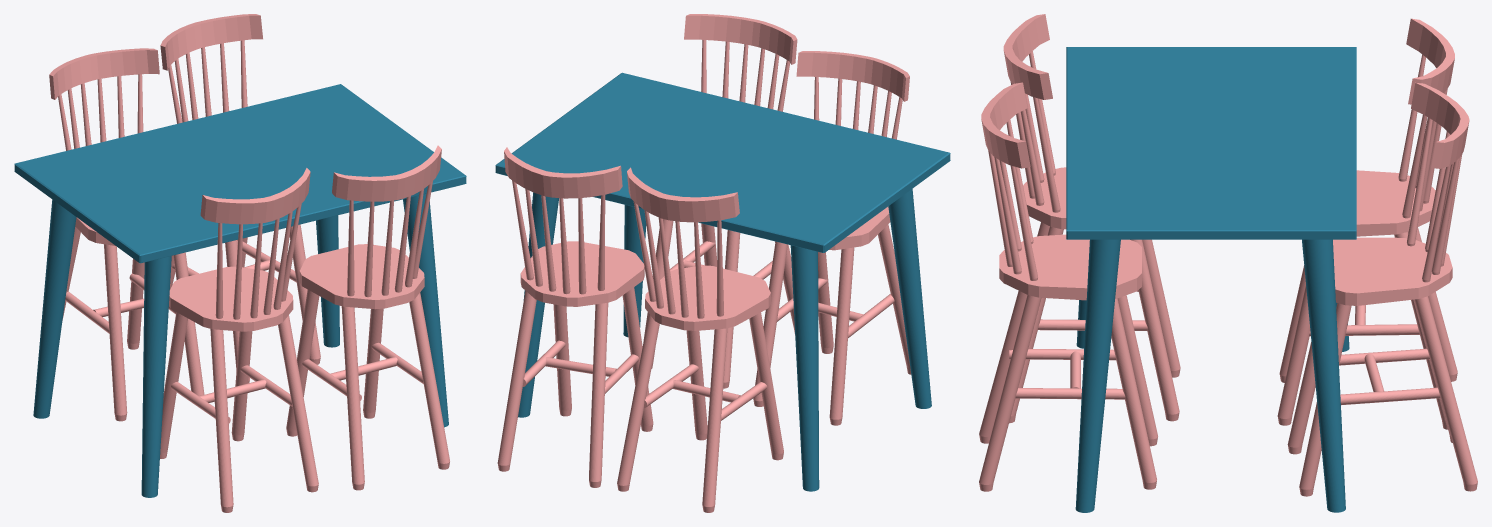
Rendered from table and chair.fbx.
3 views of the same model, side by side, from view 1: azimuth 30°, elevation 25°; view 2: azimuth 150°, elevation 25°; view 3: azimuth 270°, elevation 25° (orthographic). The views are drawn at different scales.
Visible parts, largest first — view 1: table, chair.001, chair.002, chair.003, chair, Cube.019, Cube.018, Cube.016, Cube.017; view 2: table, chair.003, chair, chair.001, chair.002, Cube.018, Cube.019, Cube.017, Cube.016; view 3: table, chair.002, chair, chair.003, chair.001, Cube.016, Cube.017.
Boxes of the visible parts, bbox=[...] form: table: bbox=[14, 84, 466, 263]; chair.001: bbox=[160, 168, 318, 512]; chair.002: bbox=[286, 145, 449, 490]; chair.003: bbox=[49, 48, 204, 421]; chair: bbox=[160, 14, 320, 383]; Cube.019: bbox=[141, 256, 171, 497]; Cube.018: bbox=[33, 199, 76, 418]; Cube.016: bbox=[403, 193, 448, 427]; Cube.017: bbox=[316, 215, 339, 347]; table: bbox=[495, 72, 950, 252]; chair.003: bbox=[617, 167, 783, 512]; chair: bbox=[497, 147, 653, 487]; chair.001: bbox=[753, 51, 911, 425]; chair.002: bbox=[643, 14, 797, 388]; Cube.018: bbox=[790, 245, 819, 491]; Cube.019: bbox=[888, 189, 931, 408]; Cube.017: bbox=[518, 192, 558, 417]; Cube.016: bbox=[623, 205, 646, 337]; table: bbox=[1066, 47, 1356, 239]; chair.002: bbox=[979, 82, 1157, 491]; chair: bbox=[1287, 82, 1477, 496]; chair.003: bbox=[1277, 18, 1457, 429]; chair.001: bbox=[1003, 14, 1180, 423]; Cube.016: bbox=[1075, 239, 1120, 512]; Cube.017: bbox=[1302, 239, 1345, 512].
Bounding box in the file's own units: 164 × 147 × 188.
